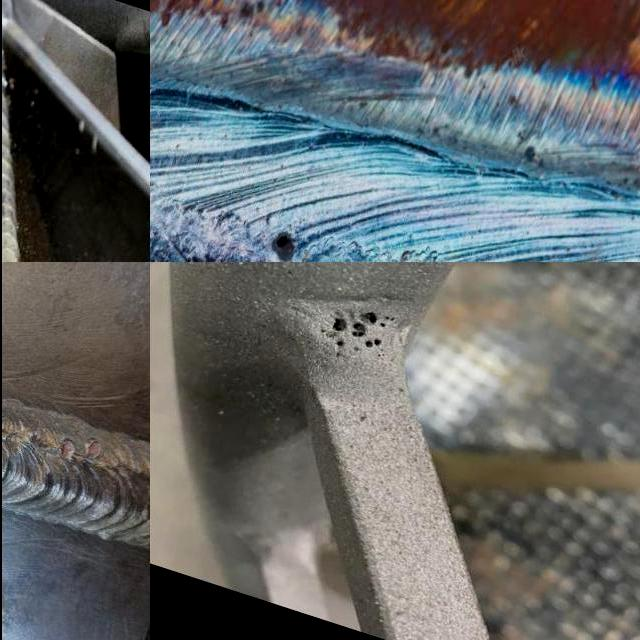defect: (264, 226, 301, 262), (360, 309, 399, 330), (56, 438, 75, 461), (83, 438, 101, 461), (326, 317, 347, 335), (347, 322, 368, 338), (360, 338, 382, 349), (332, 339, 344, 348), (28, 429, 37, 441), (373, 351, 384, 359), (330, 351, 341, 359), (351, 345, 361, 353)
